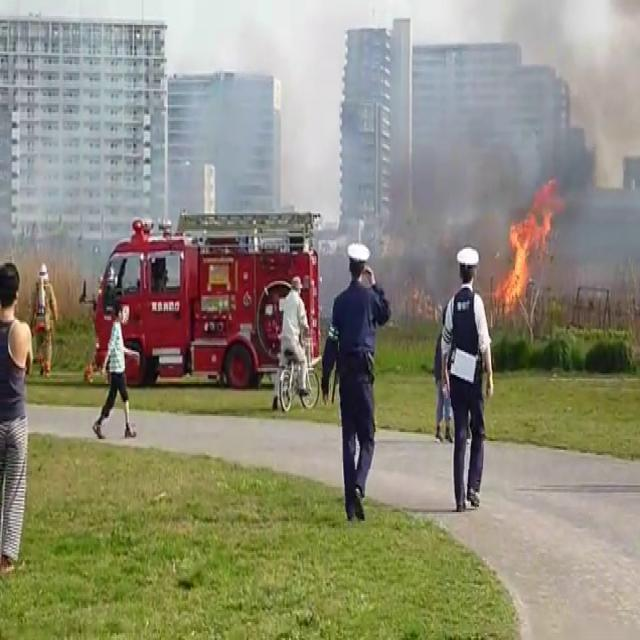Fire: (497, 182, 565, 310)
Smoke: (331, 0, 639, 261), (156, 73, 318, 224)
